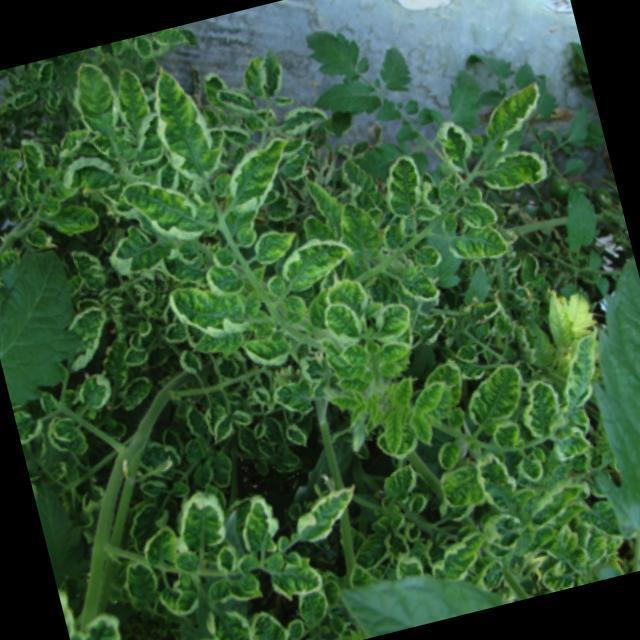Yellow Curl Virus: (150, 64, 220, 184), (116, 167, 205, 252), (216, 130, 304, 214), (163, 275, 256, 348), (474, 74, 554, 148), (289, 482, 374, 548), (458, 358, 534, 428), (110, 58, 162, 153), (278, 234, 352, 296), (69, 54, 121, 140), (376, 151, 434, 226), (475, 143, 548, 195), (471, 447, 524, 518), (230, 490, 286, 554), (518, 378, 568, 444), (175, 489, 231, 546), (314, 294, 371, 349), (65, 604, 141, 640), (432, 112, 477, 171), (69, 369, 121, 414), (205, 601, 258, 640), (451, 190, 498, 232), (367, 302, 416, 342), (408, 378, 452, 413)
